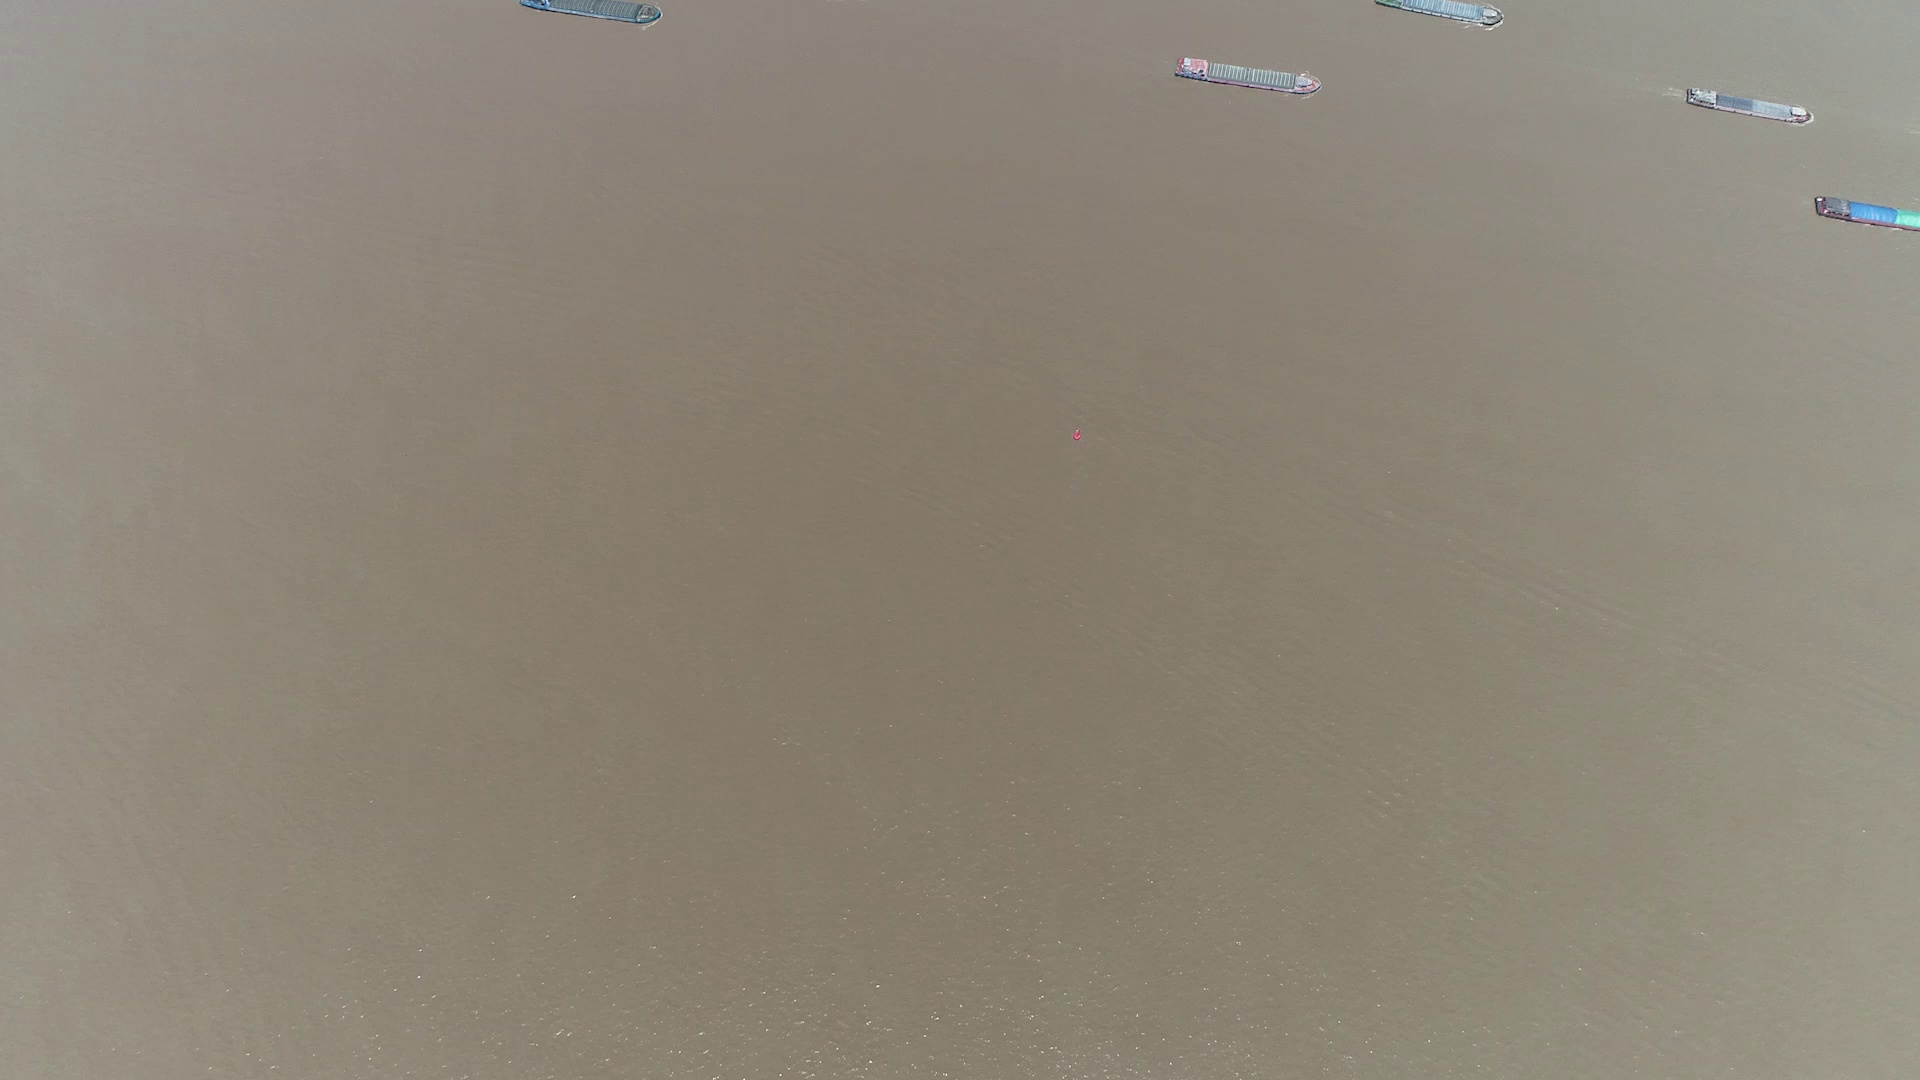ship: (1176, 57, 1323, 96), (1683, 86, 1813, 124), (1815, 194, 1920, 231), (520, 0, 663, 25), (1379, 0, 1505, 26)
